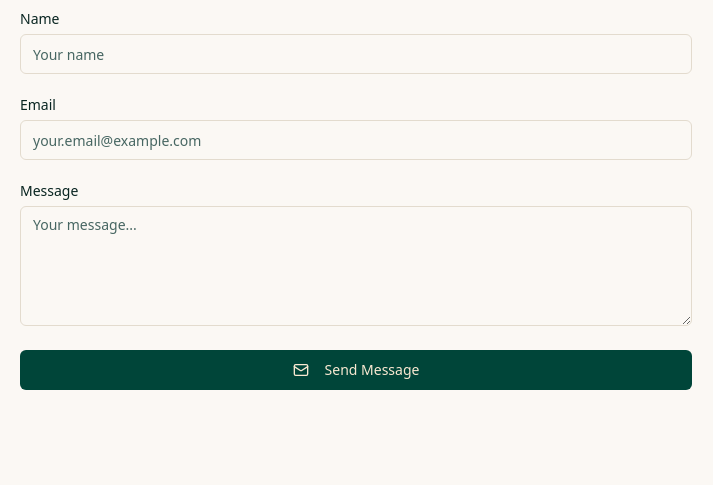
Test case: ContactForm › should display error message when Server Action returns error
Type "John Doe" into the field labelled "Name".
click(356, 54); type("John Doe")  # box [20, 34, 692, 74]
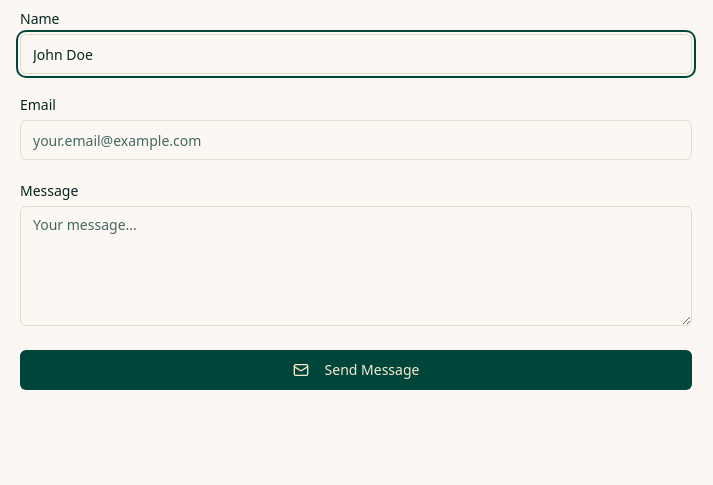
Type "john@example.com" into the field labelled "Email".
click(356, 140); type("john@example.com")  # box [20, 120, 692, 160]
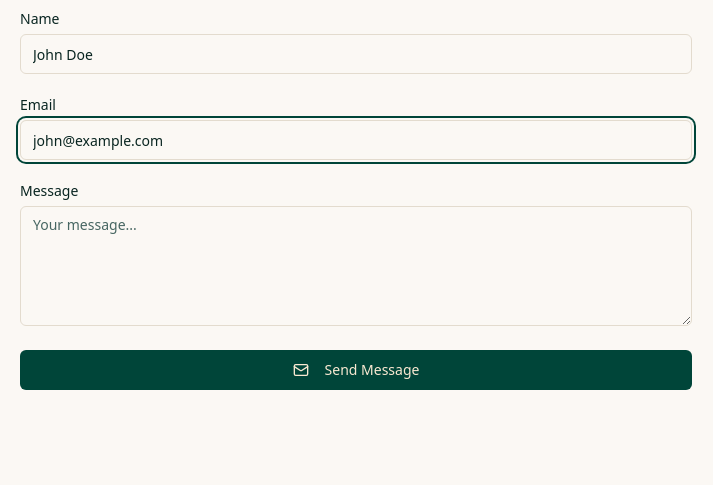
Type "This is a valid message with enough characters" into the text box labelled "Message".
click(356, 266); type("This is a valid message with enough characters")  # box [20, 206, 692, 326]
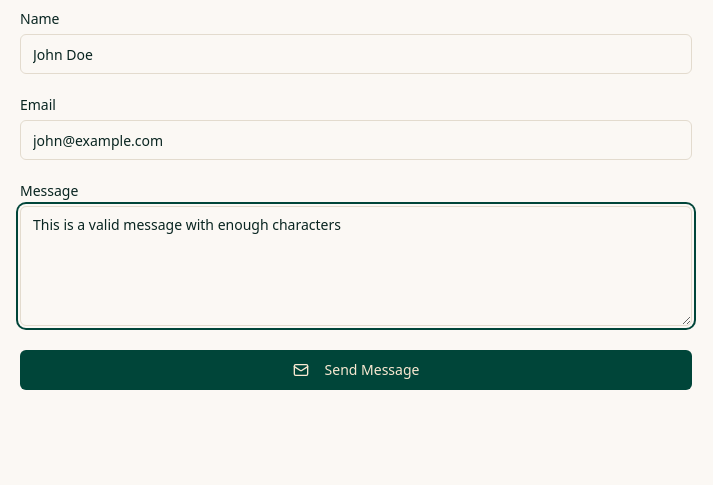
Click the button "Send Message".
click(356, 370)  # box [20, 350, 692, 390]
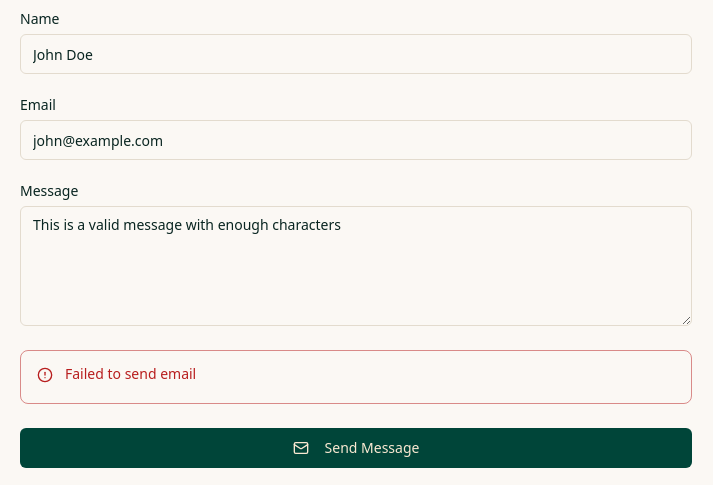
Check: the text "Failed to send email" is shown, box [65, 364, 196, 383]
